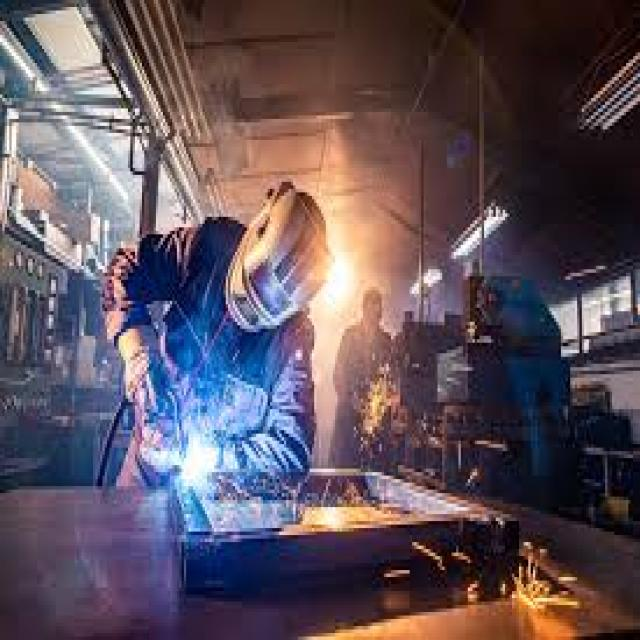welding: (182, 443, 218, 483)
